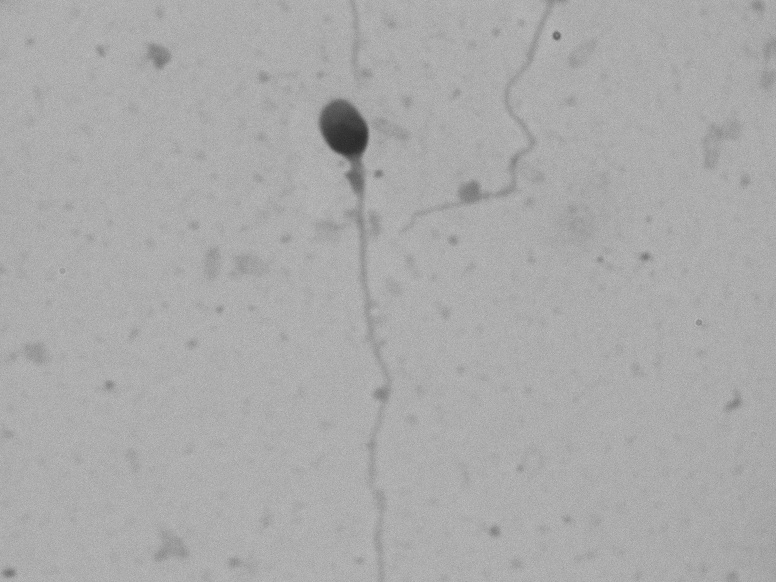Abnormal: (258, 79, 449, 579)
